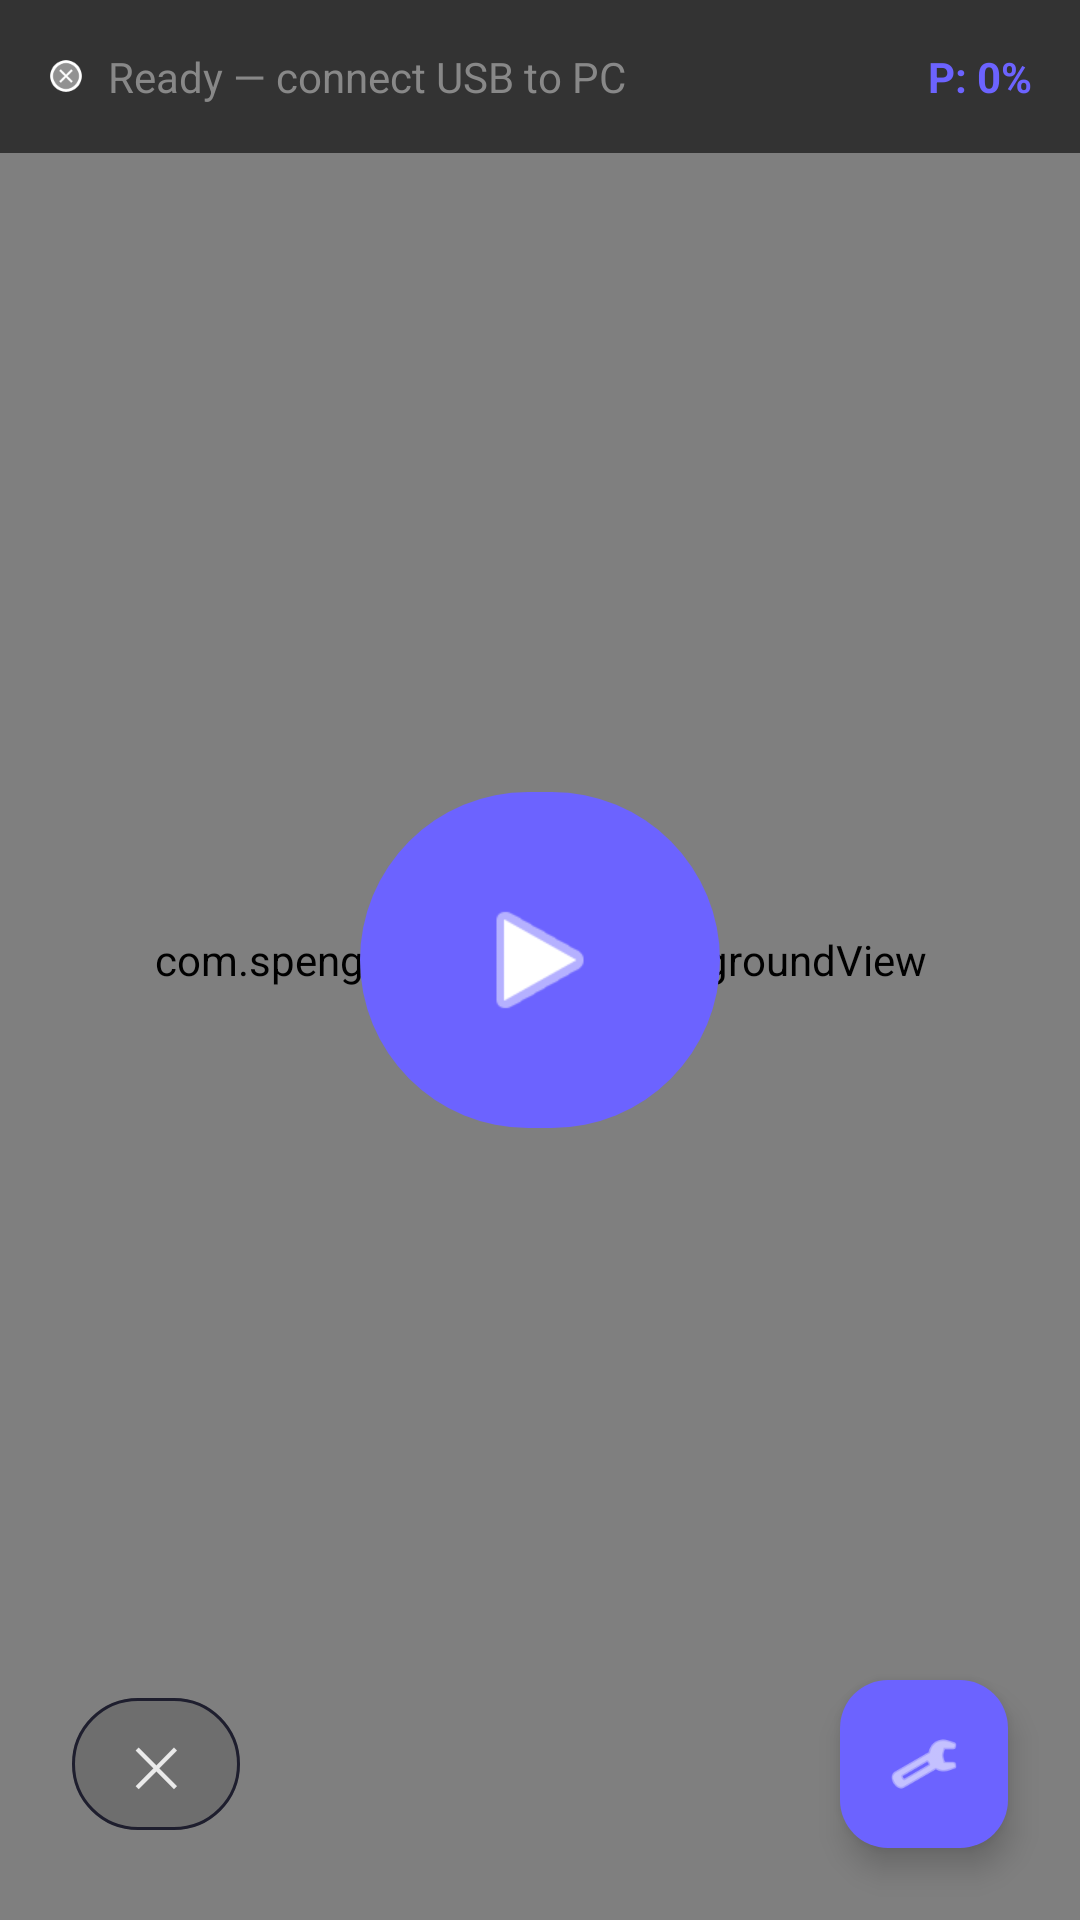

Locate icon controls on the screen. Image size 1080w x 1920h, boxes as {"left": x1, "top": y1, "right": x2, "bottom": y2}.
preferences: {"left": 840, "top": 1680, "right": 1008, "bottom": 1848}
presence offline: {"left": 50, "top": 60, "right": 82, "bottom": 92}
